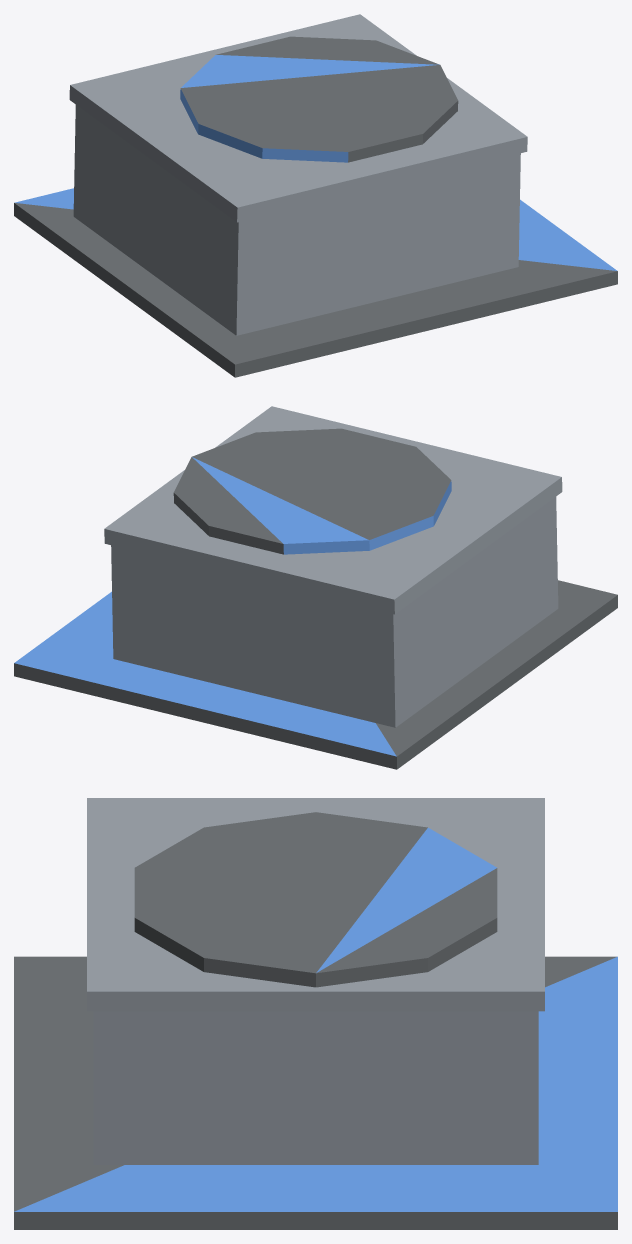
The model's file is veyran_radar_damaged.glb.
The picture shows the model from 3 angles, top to bottom: view 1: azimuth 30°, elevation 25°; view 2: azimuth 150°, elevation 25°; view 3: azimuth 270°, elevation 25°; orthographic projection. The views are drawn at different scales.
Parts seen in each view (by area): view 1: hull, dish; view 2: hull, dish; view 3: hull, dish.
Part boxes in pixels (x1,y1,x2,y2): hull: (14, 14, 617, 377); dish: (180, 36, 458, 162); hull: (14, 406, 617, 769); dish: (173, 428, 451, 554); hull: (14, 798, 617, 1229); dish: (134, 812, 497, 987).
Size of the model in its own units: 7.6 by 2.94 by 7.6.
